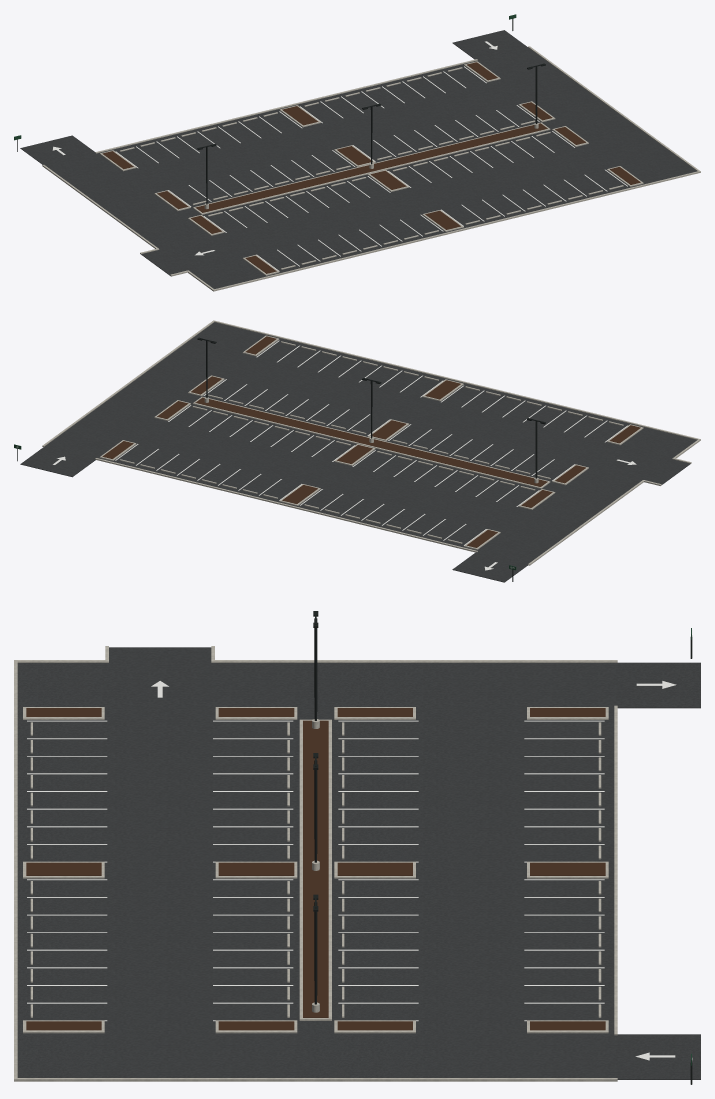
Rendered from parking_lot_l3.gltf.
The picture shows the model from 3 angles, top to bottom: view 1: azimuth 30°, elevation 25°; view 2: azimuth 150°, elevation 25°; view 3: azimuth 270°, elevation 25°; orthographic projection. The views are drawn at different scales.
Visible parts, largest first — view 1: BASE.002; view 2: BASE.002; view 3: BASE.002.
Part boxes in pixels (x1,y1,x2,y2): BASE.002: (14, 14, 700, 291); BASE.002: (14, 320, 700, 582); BASE.002: (14, 611, 700, 1084).
Size of the model in its own units: 64.86 by 7.7 by 42.81.
Materials: 8 (2 with a texture image).
